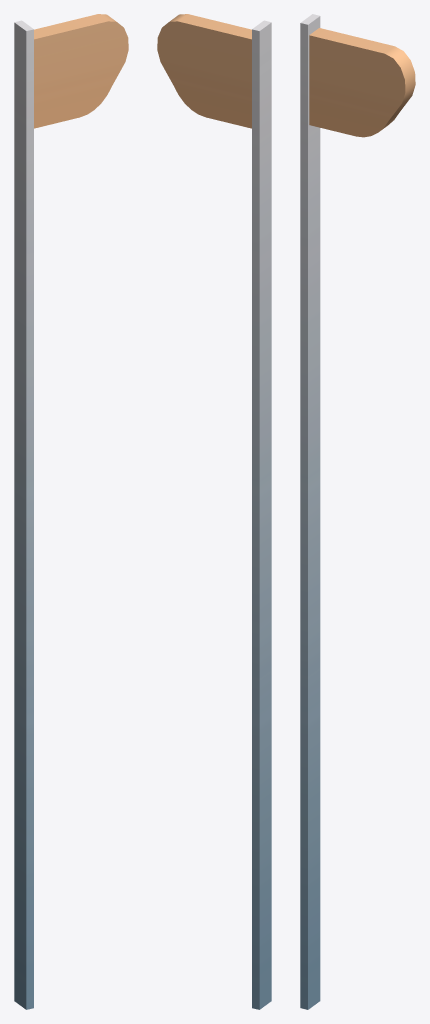
Rendered from Obstacle_1.fbx.
The picture shows the model from 3 angles, left to right: view 1: azimuth 30°, elevation 25°; view 2: azimuth 150°, elevation 25°; view 3: azimuth 330°, elevation 25°; orthographic projection.
Visible parts, largest first — view 1: Obstacle_1; view 2: Obstacle_1; view 3: Obstacle_1.
Part boxes in pixels (<box>): Obstacle_1: <box>14,14,128,1009</box>; Obstacle_1: <box>157,14,271,1009</box>; Obstacle_1: <box>300,14,415,1009</box>.
Bounding box in the file's own units: 418 × 3778 × 85.25.
